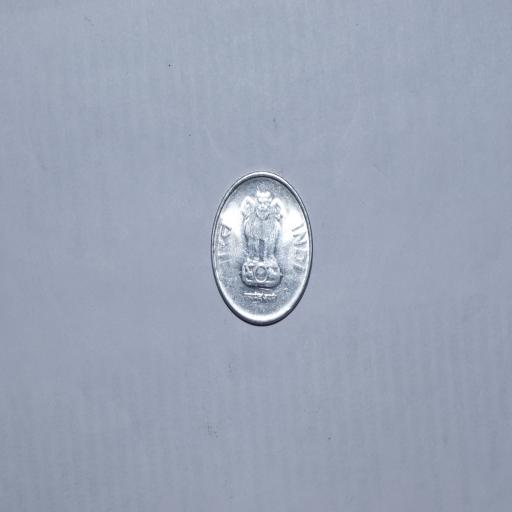rupee2: (209, 170, 314, 324)
